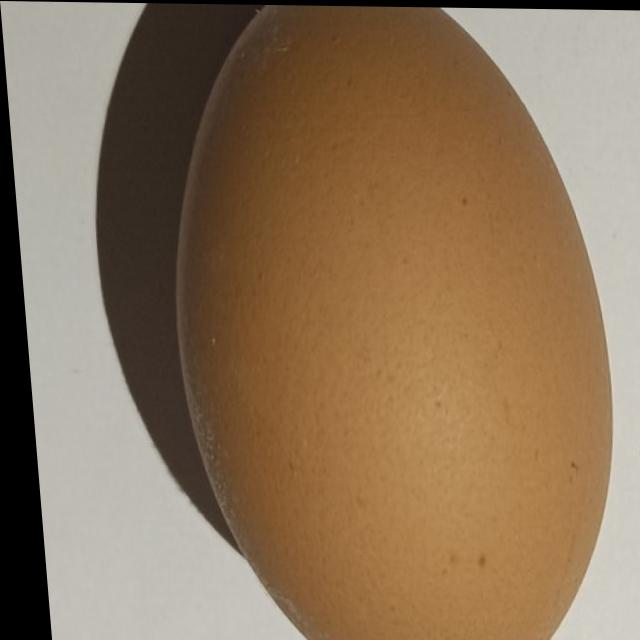fresh: (148, 2, 631, 640)
